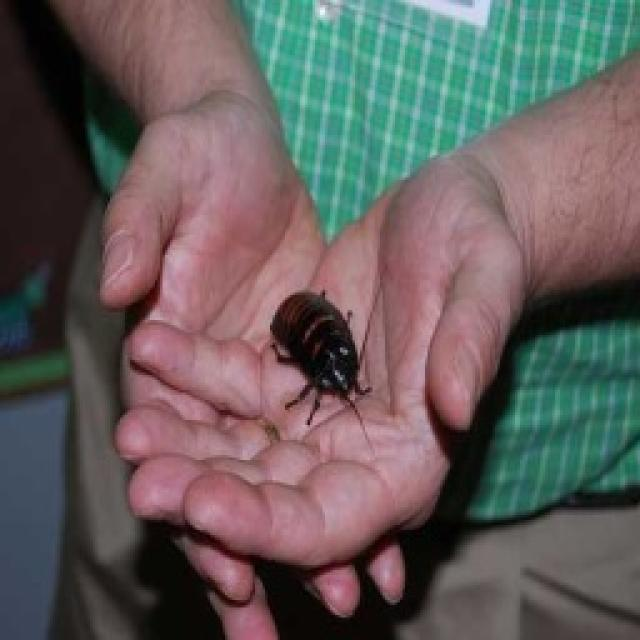cockroach: (263, 284, 381, 451)
